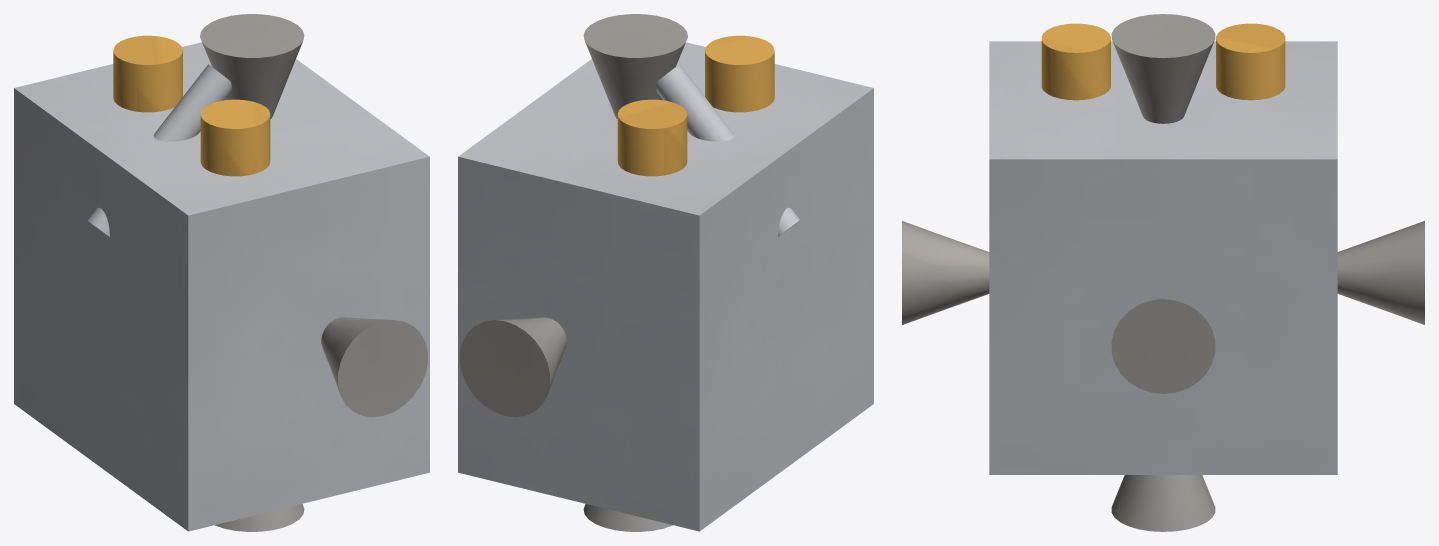
The model's file is prop25_cold_gas_block.glb.
3 views of the same model, side by side, from view 1: azimuth 30°, elevation 25°; view 2: azimuth 150°, elevation 25°; view 3: azimuth 270°, elevation 25° (orthographic).
Parts seen in each view (by area): view 1: block, nozzles, valves, feed; view 2: block, nozzles, valves, feed; view 3: block, nozzles, valves.
Part boxes in pixels (x1=…): block: x1=14, y1=42, x2=429, y2=531; nozzles: x1=200, y1=14, x2=427, y2=531; valves: x1=113, y1=35, x2=270, y2=176; feed: x1=87, y1=64, x2=231, y2=236; block: x1=458, y1=42, x2=873, y2=531; nozzles: x1=460, y1=14, x2=687, y2=531; valves: x1=617, y1=35, x2=774, y2=176; feed: x1=656, y1=64, x2=800, y2=236; block: x1=989, y1=41, x2=1337, y2=474; nozzles: x1=902, y1=14, x2=1424, y2=531; valves: x1=1041, y1=23, x2=1285, y2=100.
Size of the model in its own units: 0.2071 by 0.3 by 0.3.
Materials: 3 (3 with a texture image).
